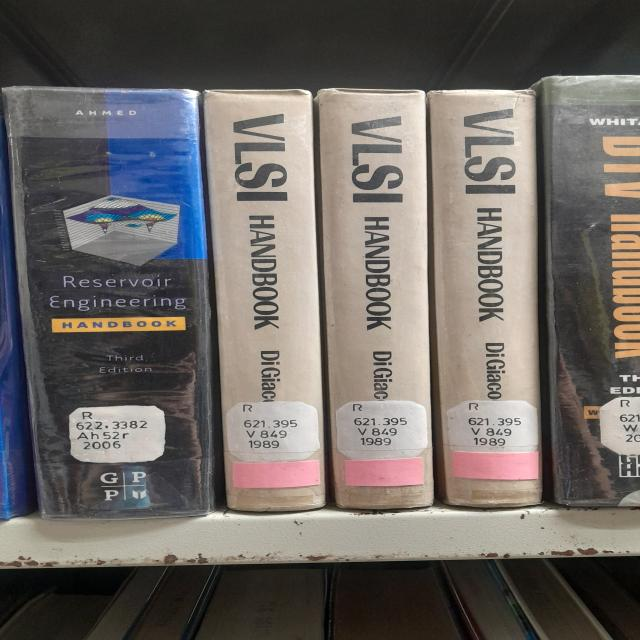book: (3, 87, 217, 520), (204, 89, 326, 510), (315, 88, 434, 510), (427, 90, 542, 508), (532, 75, 640, 508)
